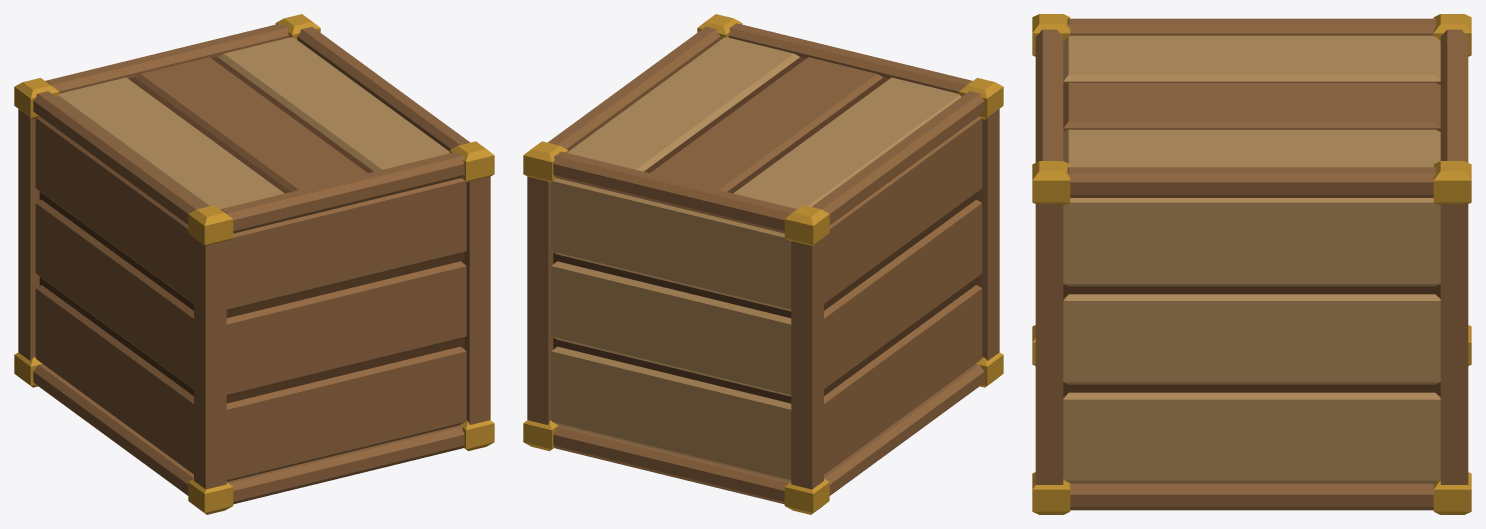
The model's file is Crate_09.glb.
The picture shows the model from 3 angles, left to right: view 1: azimuth 30°, elevation 25°; view 2: azimuth 150°, elevation 25°; view 3: azimuth 270°, elevation 25°; orthographic projection. The views are drawn at different scales.
Visible parts, largest first — view 1: Crate_09; view 2: Crate_09; view 3: Crate_09.
Part boxes in pixels (x1=…): Crate_09: x1=14, y1=14, x2=494, y2=514; Crate_09: x1=523, y1=14, x2=1003, y2=514; Crate_09: x1=1032, y1=14, x2=1471, y2=514.
Size of the model in its own units: 2.24 by 2.19 by 2.54.
